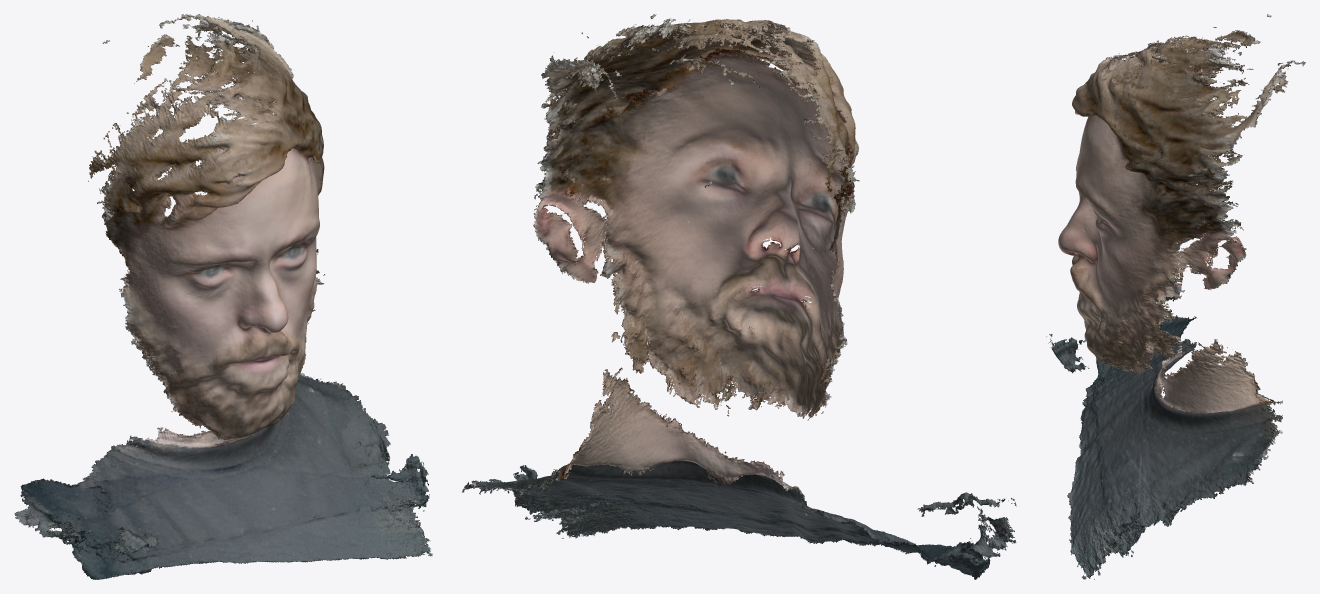
File: tomhead3.glb
3 views of the same model, side by side, from view 1: azimuth 30°, elevation 25°; view 2: azimuth 150°, elevation 25°; view 3: azimuth 270°, elevation 25° (orthographic). The views are drawn at different scales.
Visible parts, largest first — view 1: Mesh_0; view 2: Mesh_0; view 3: Mesh_0.
Part boxes in pixels (x1,y1,x2,y2): Mesh_0: (14, 14, 432, 579); Mesh_0: (462, 14, 1016, 579); Mesh_0: (1046, 14, 1305, 579).
Size of the model in its own units: 1.03 by 1.25 by 0.6243.
